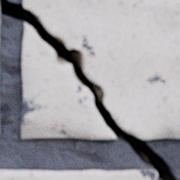brick: (0, 169, 156, 179)
broken_brick: (23, 0, 179, 138), (21, 23, 115, 138)
crack: (0, 0, 177, 179)
